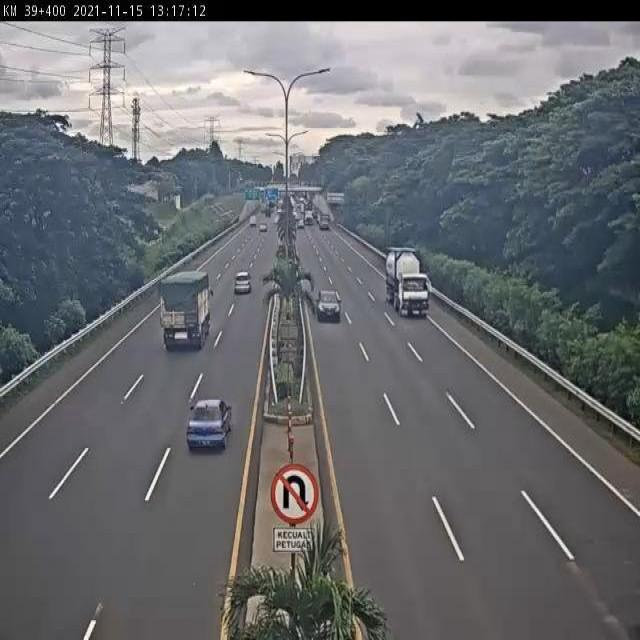car: (183, 397, 234, 455), (316, 287, 342, 324), (233, 267, 254, 297)
truck-l-: (158, 267, 212, 349)
truck-xl-: (384, 244, 433, 317)
